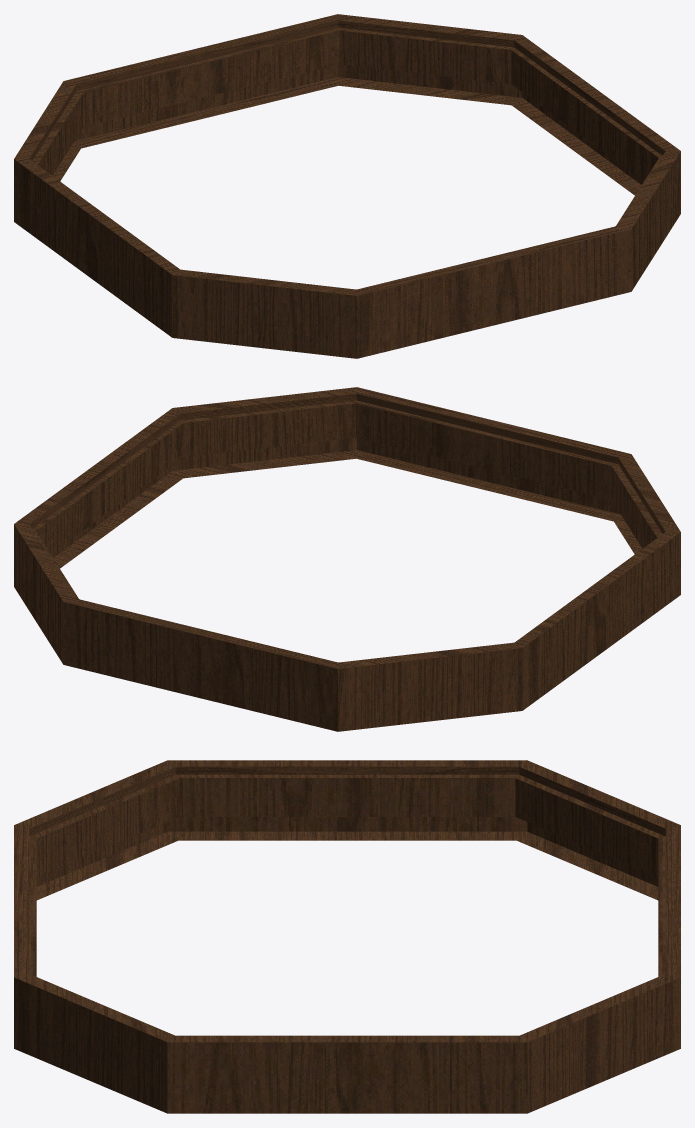
Rendered from table mp_new frame1.glb.
3 renders of one model, top to bottom at view 1: azimuth 30°, elevation 25°; view 2: azimuth 150°, elevation 25°; view 3: azimuth 270°, elevation 25°, orthographic. The views are drawn at different scales.
Visible parts, largest first — view 1: tabletop wood frame; view 2: tabletop wood frame; view 3: tabletop wood frame.
Boxes of the visible parts, x1,y1,x2,y2 form: tabletop wood frame: [14, 14, 680, 358]; tabletop wood frame: [14, 387, 680, 731]; tabletop wood frame: [14, 760, 680, 1113].
Size of the model in its own units: 22.59 by 2.67 by 22.59.
1 material, 1 textured.
